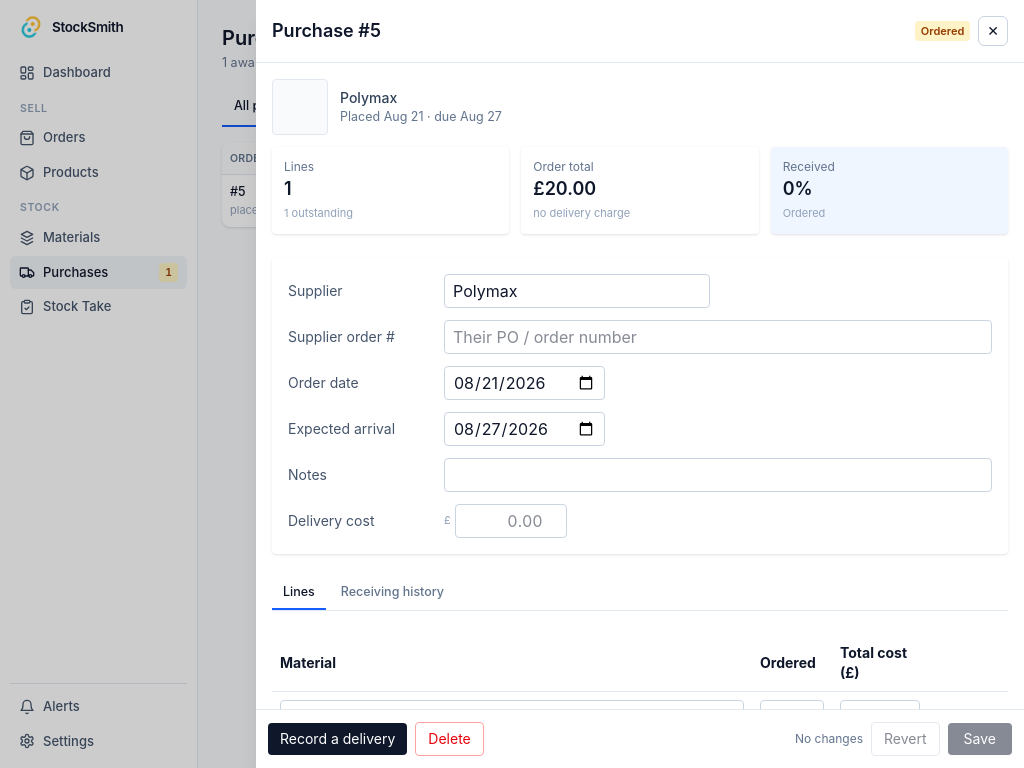
the footer Revert drops a header edit with no request
Expected: the heading "Purchase #5" is shown, [272, 17, 381, 45]
Type "2026-08-25" into the date field showing "2026-08-21" at (524, 382), box [444, 366, 605, 400]
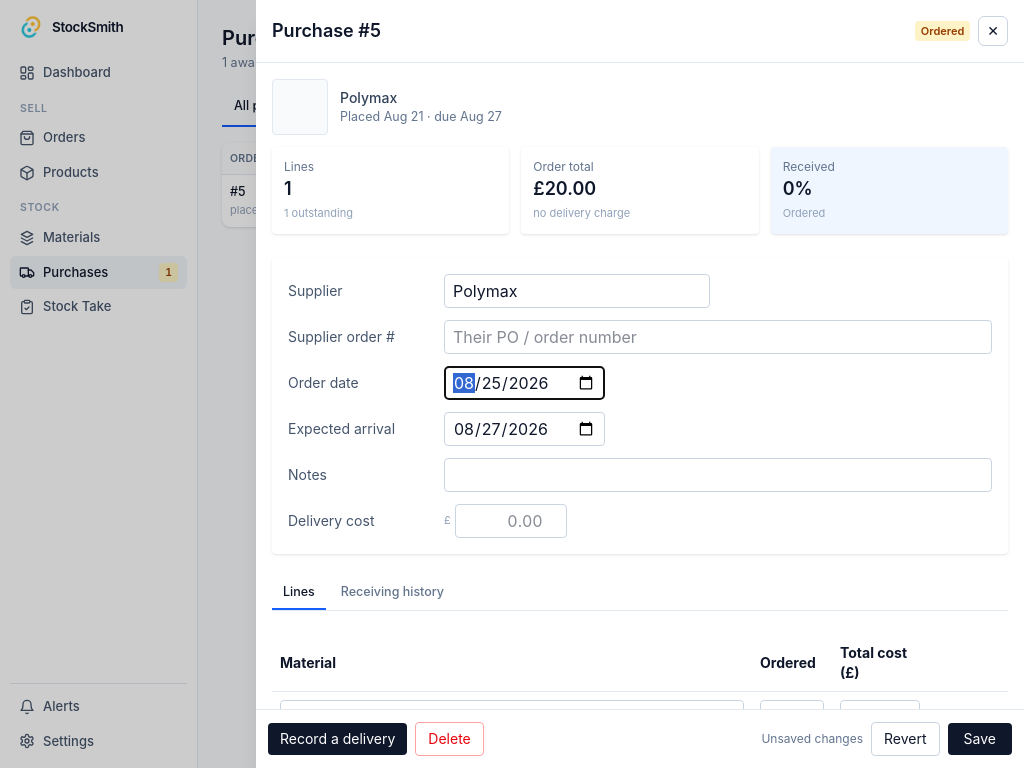
Click the button "Revert" at (905, 739), box [871, 722, 940, 756]
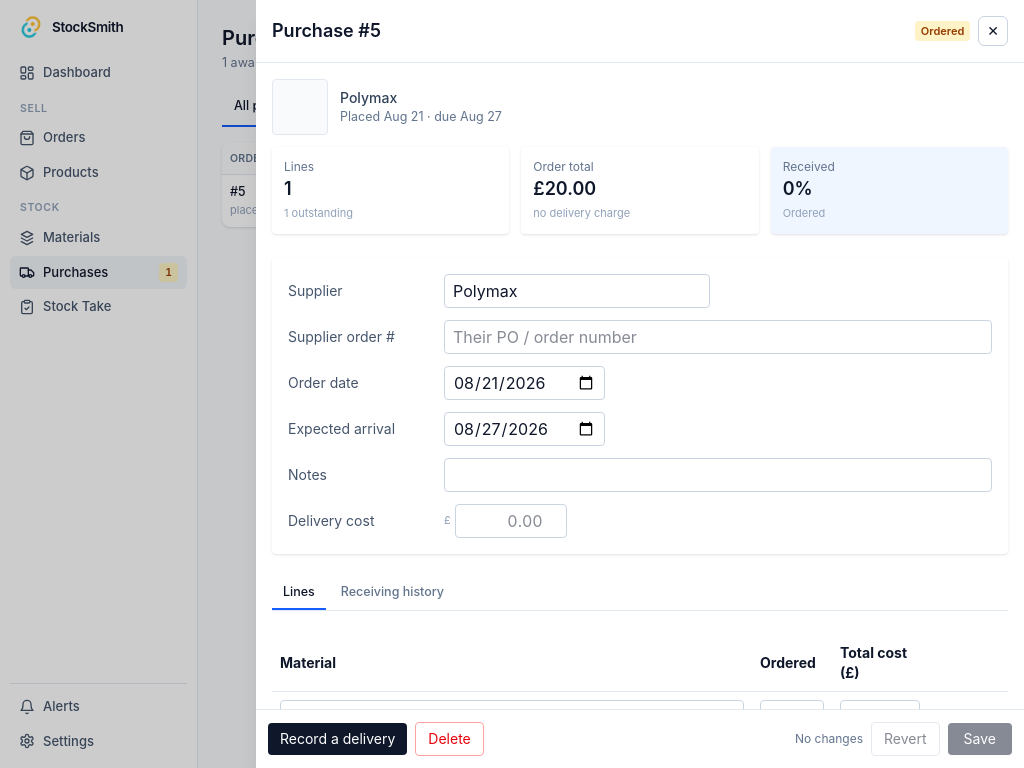
Expected: the text "No changes" is shown, [795, 730, 863, 748]
